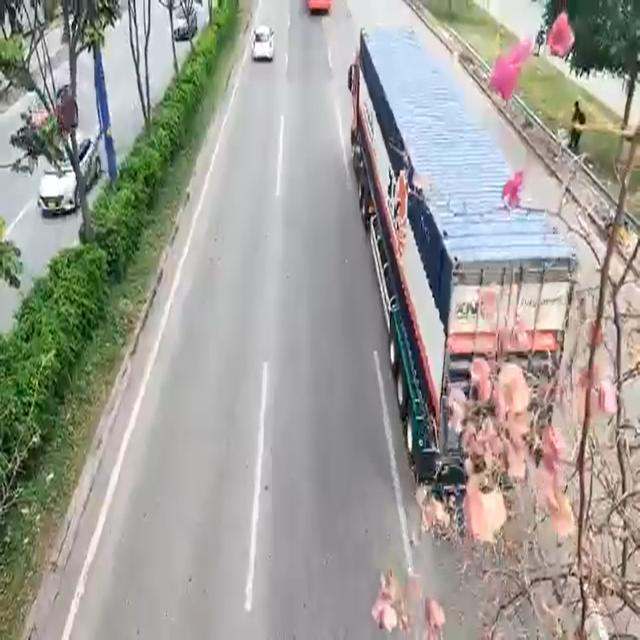truck: (348, 28, 568, 517)
